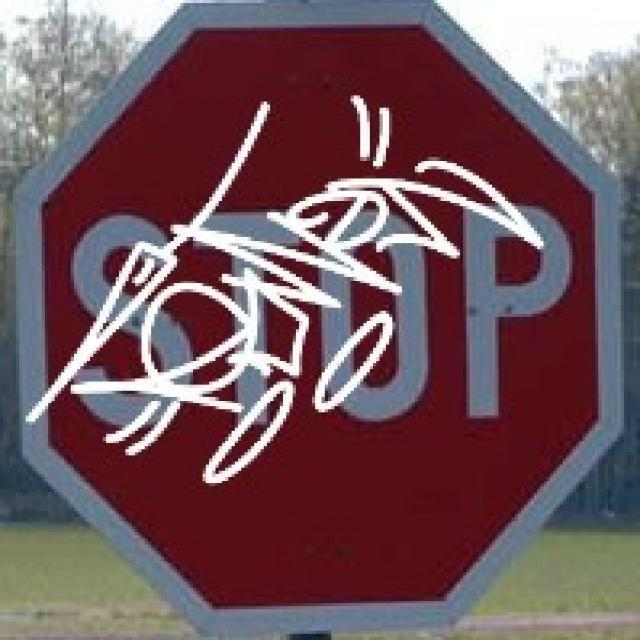Stop-Sign: (52, 43, 582, 588)
